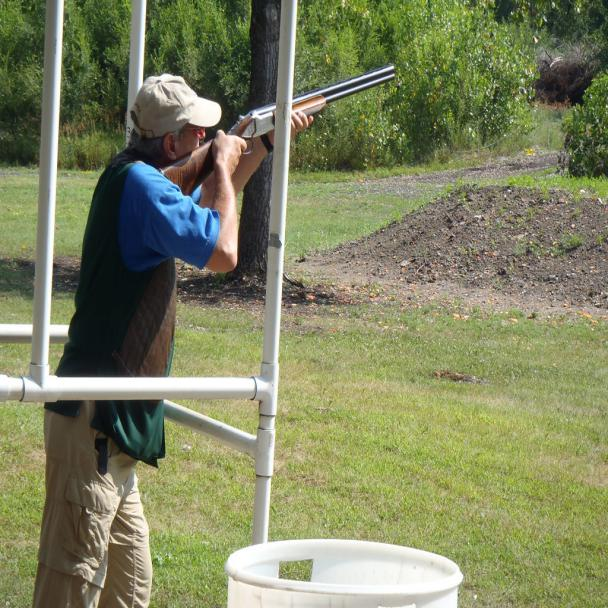Gun: (151, 48, 410, 190)
Hand: (207, 128, 258, 240), (242, 104, 327, 171)
